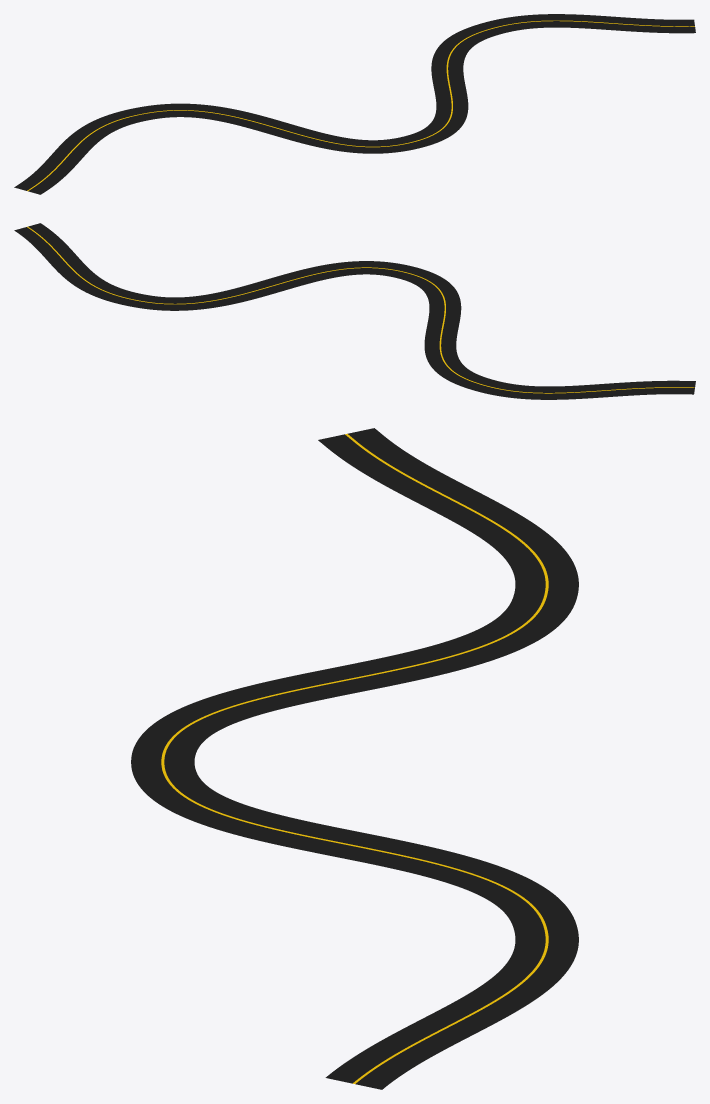
Rendered from track.obj.
3 renders of one model, top to bottom at view 1: azimuth 30°, elevation 25°; view 2: azimuth 150°, elevation 25°; view 3: azimuth 270°, elevation 25°, orthographic. The views are drawn at different scales.
Visible parts, largest first — view 1: Track_Profile; view 2: Track_Profile; view 3: Track_Profile.
Boxes of the visible parts, x1=… form: Track_Profile: x1=14, y1=14, x2=695, y2=194; Track_Profile: x1=14, y1=223, x2=695, y2=399; Track_Profile: x1=131, y1=428, x2=578, y2=1089.
Bounding box in the file's own units: 24.66 × 0 × 7.05.
